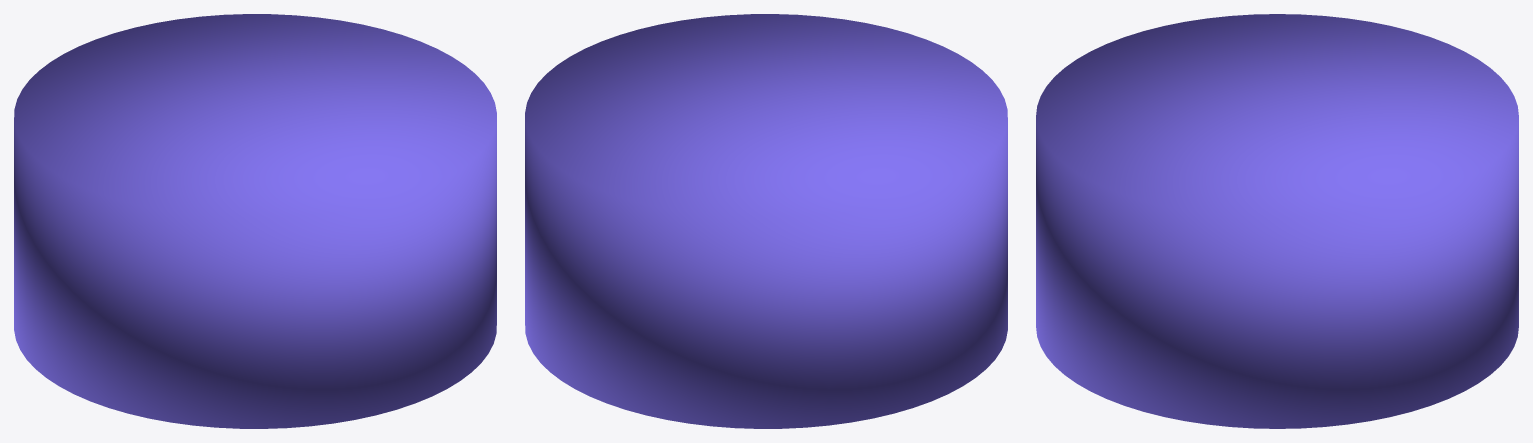
Rendered from Cilindro1.fbx.
3 views of the same model, side by side, from view 1: azimuth 30°, elevation 25°; view 2: azimuth 150°, elevation 25°; view 3: azimuth 270°, elevation 25° (orthographic).
Parts seen in each view (by area): view 1: Cilindro1; view 2: Cilindro1; view 3: Cilindro1.
Part boxes in pixels (bbox=[...]): Cilindro1: bbox=[14, 14, 496, 428]; Cilindro1: bbox=[525, 14, 1007, 428]; Cilindro1: bbox=[1036, 14, 1518, 428].
Size of the model in its own units: 200 by 96.37 by 200.
